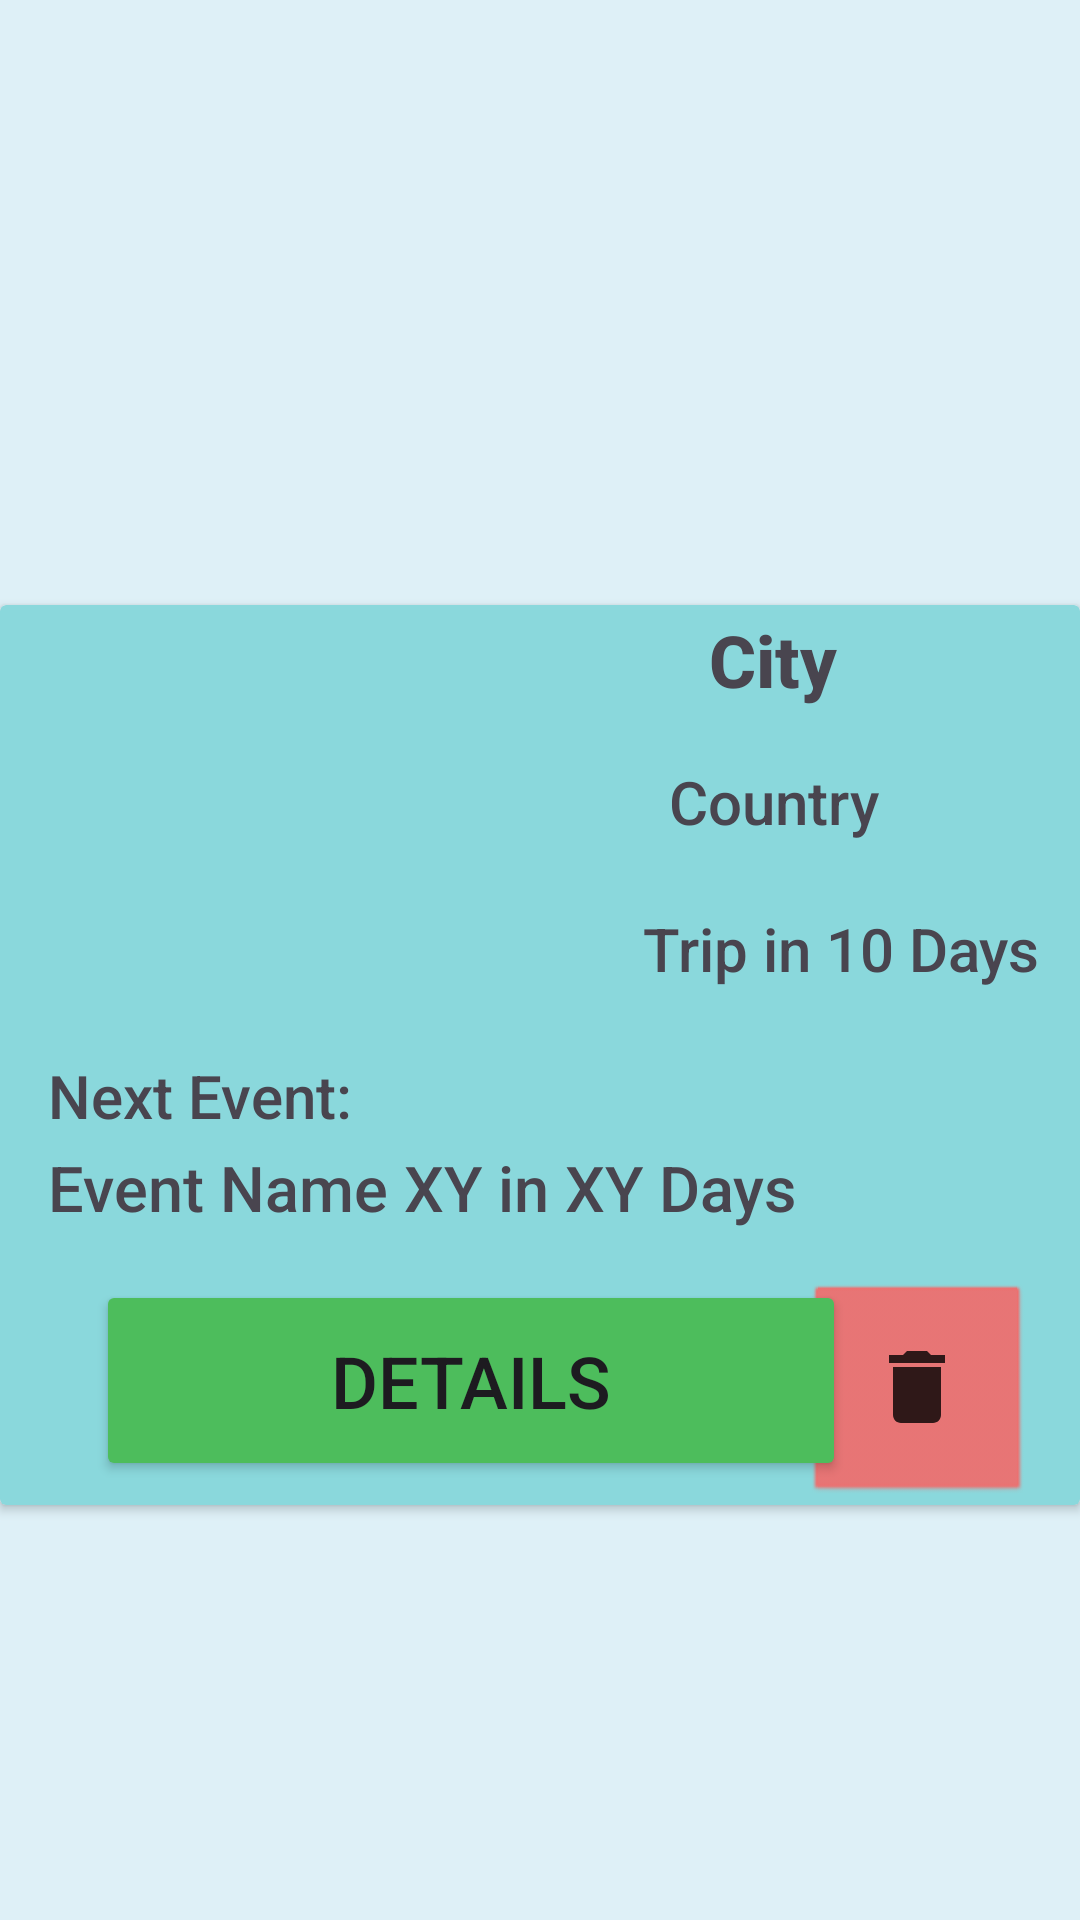

Icons on this 1080px×1920px Android screen, each with the point to tap as (x,y):
Delete Button: (918,1394)
